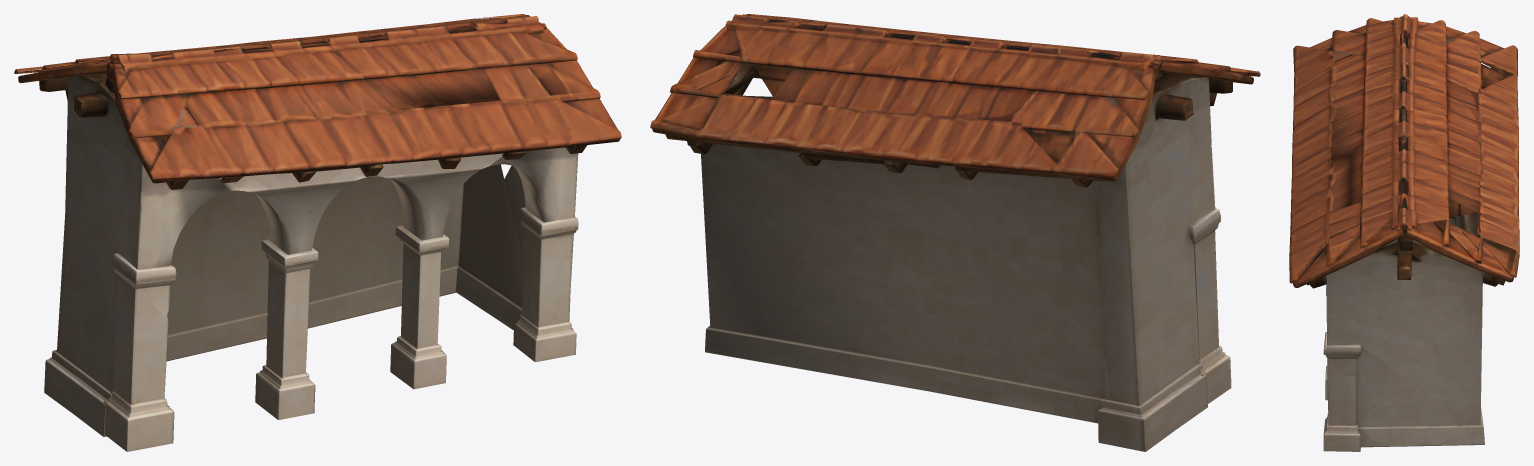
Rendered from act1_kit_v1_cloister_bay.glb.
The picture shows the model from 3 angles, left to right: view 1: azimuth 30°, elevation 25°; view 2: azimuth 150°, elevation 25°; view 3: azimuth 270°, elevation 25°; orthographic projection. The views are drawn at different scales.
Visible parts, largest first — view 1: act1_kit_v1_cloister_bay; view 2: act1_kit_v1_cloister_bay; view 3: act1_kit_v1_cloister_bay.
Part boxes in pixels (x1,y1,x2,y2): act1_kit_v1_cloister_bay: [14, 14, 621, 451]; act1_kit_v1_cloister_bay: [650, 14, 1260, 451]; act1_kit_v1_cloister_bay: [1289, 14, 1519, 451].
Size of the model in its own units: 1 by 0.7065 by 0.5222.
Materials: 1 (1 with a texture image).
